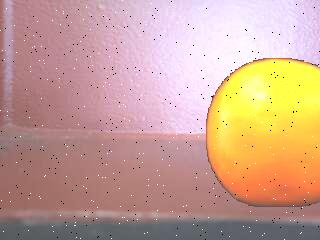Orange: (207, 59, 320, 208)
